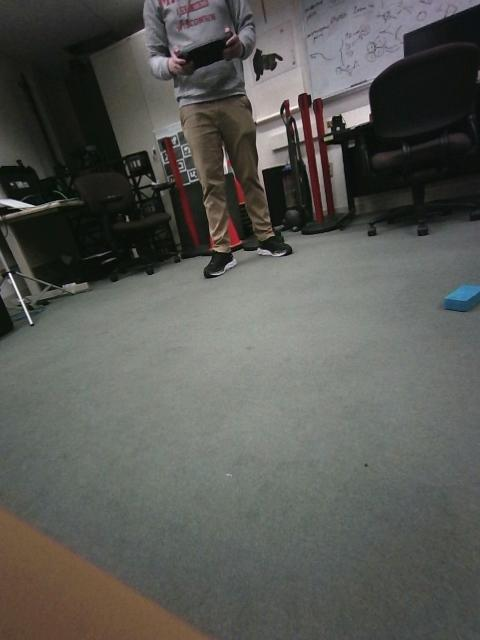block: (344, 403, 450, 479)
